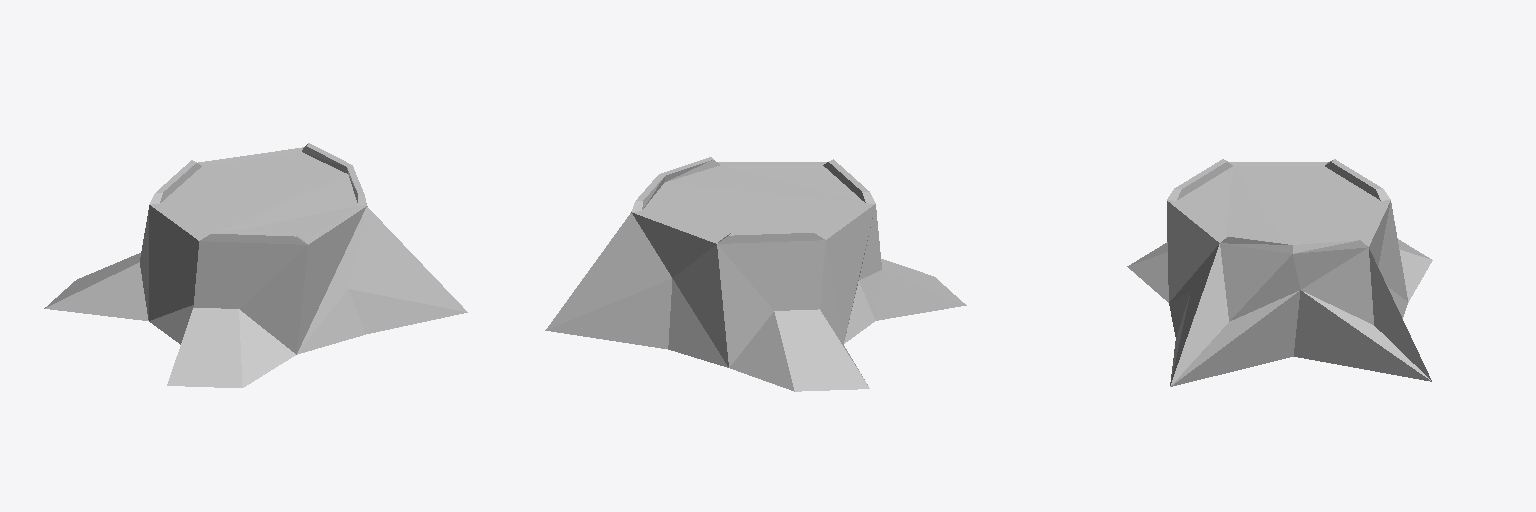
Rendered from TreeStump2.obj.
The picture shows the model from 3 angles: view 1: azimuth 30°, elevation 25°; view 2: azimuth 150°, elevation 25°; view 3: azimuth 270°, elevation 25°; orthographic projection.
Parts seen in each view (by area): view 1: TreeStump; view 2: TreeStump; view 3: TreeStump.
Part boxes in pixels (x1,y1,x2,y2): TreeStump: (44,143,467,387); TreeStump: (545,157,966,391); TreeStump: (1127,159,1432,386).
Size of the model in its own units: 1.6 by 0.5942 by 1.35.